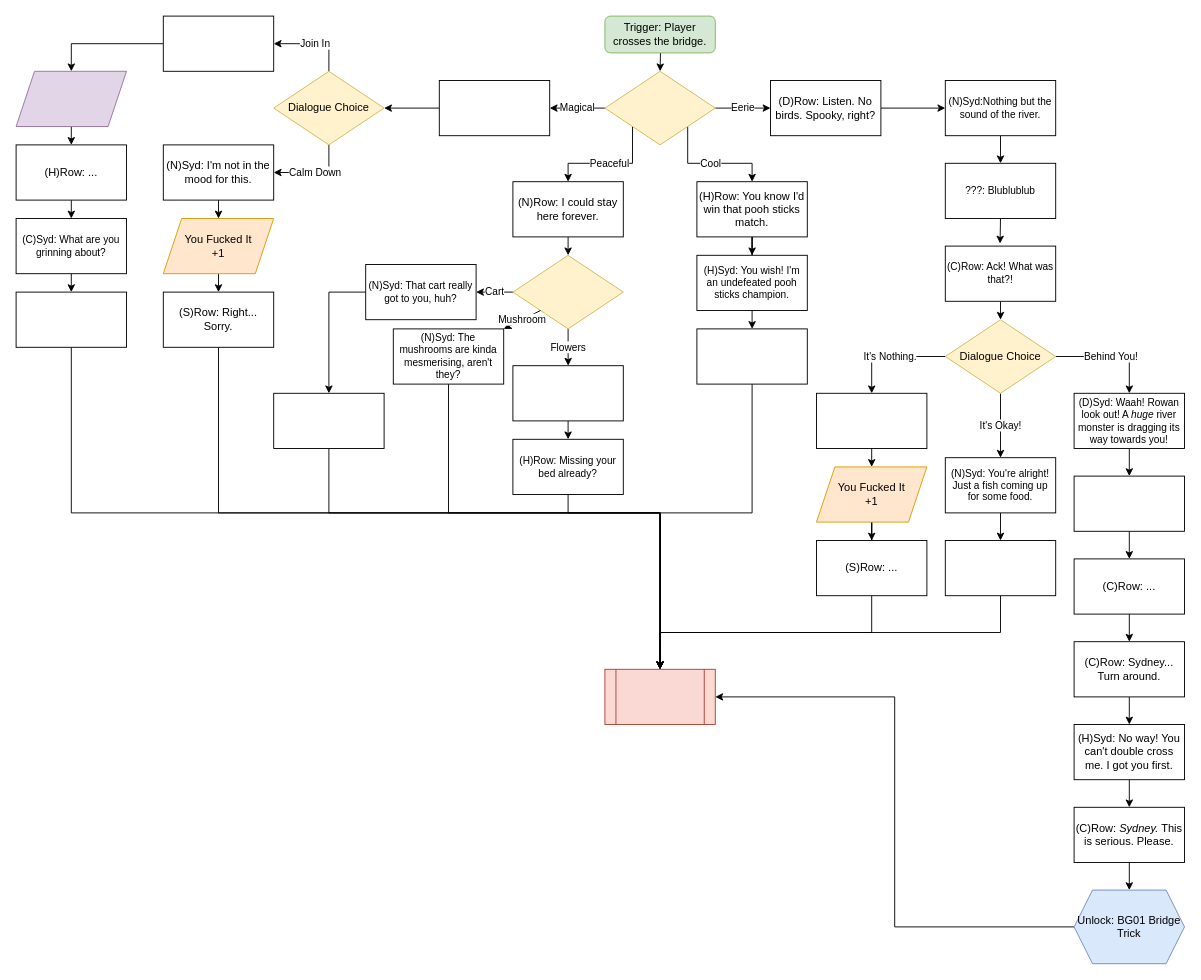
This 1201x980 diagram has some shape labels left out. The box of each missing label's shape, as (x1, y1, x2, y2) in pixels:
(D)Row: And so, the intrepid adventurers crossed the threshold...: (438, 80, 550, 136)
(D)Row: Trash attracts trash!: (273, 392, 384, 448)
(D)Syd: ...Into the dark and mysterious woods!: (162, 15, 274, 71)
(H)Row: Oh I see what you're doing. Your trickery won't-: (1073, 475, 1184, 531)
(N)Row: I think I'm just psyching myself out. Can we get going?: (944, 540, 1056, 596)
(N)Row: Nothing! Let's get moving.: (15, 291, 126, 347)
(N)Row: That's 'cause you haven't played against me yet.: (696, 328, 807, 384)
(N)Syd: ... A fish. It's just a fish.: (816, 392, 927, 448)
(N)Syd: Same. I'd love to lie down and stare at the sky... Maybe take a nap...: (512, 365, 623, 421)
How did Row and Syd describe the bridge?: (604, 70, 715, 145)
Scene End: BG01 Bridge Cross: (604, 668, 715, 724)
Smooth Moves +1: (15, 70, 126, 126)
What did they look at?: (512, 254, 623, 329)
